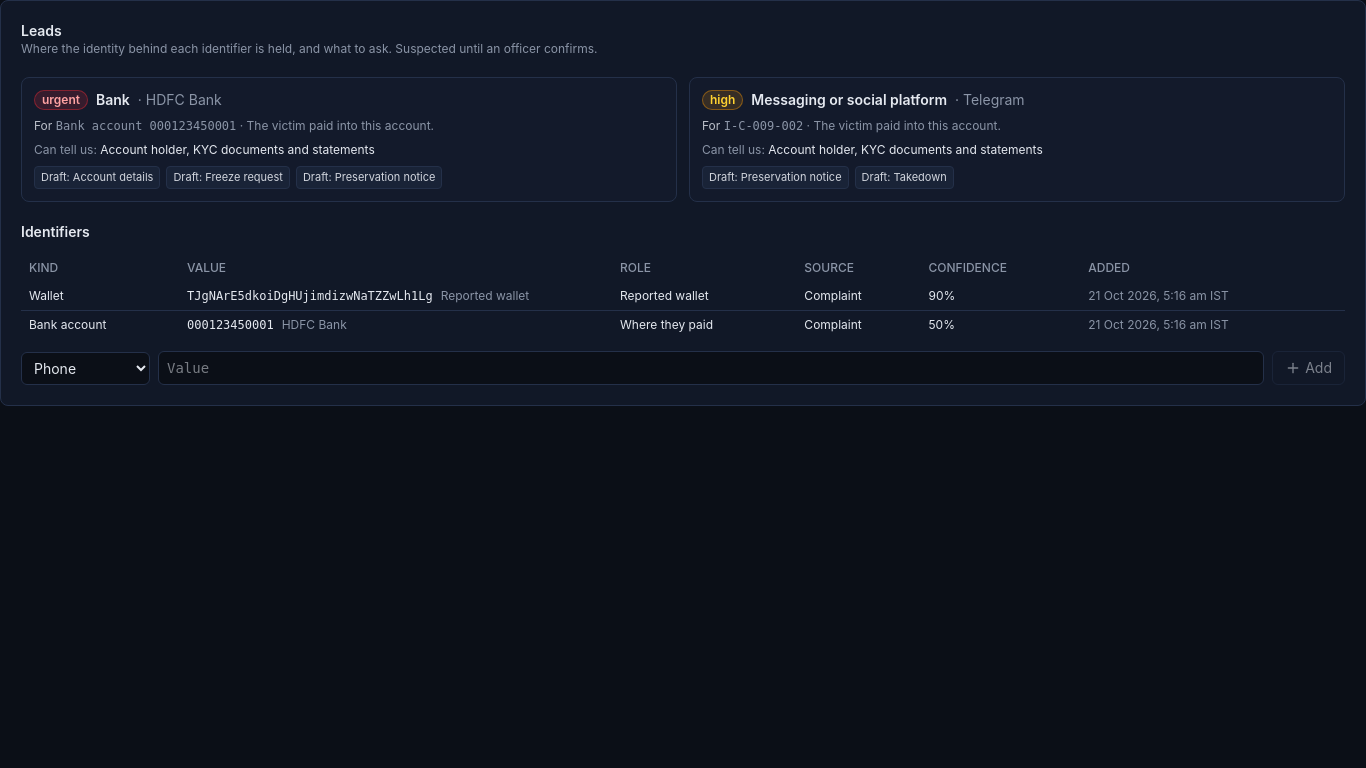
Test: the leads panel › adds an identifier by hand and refreshes the leads
Expected: the button "Add" is disabled, [1272, 350, 1345, 384]
Select "Phone" in the dropdown named "Kind" at (86, 368), box [21, 352, 150, 384]
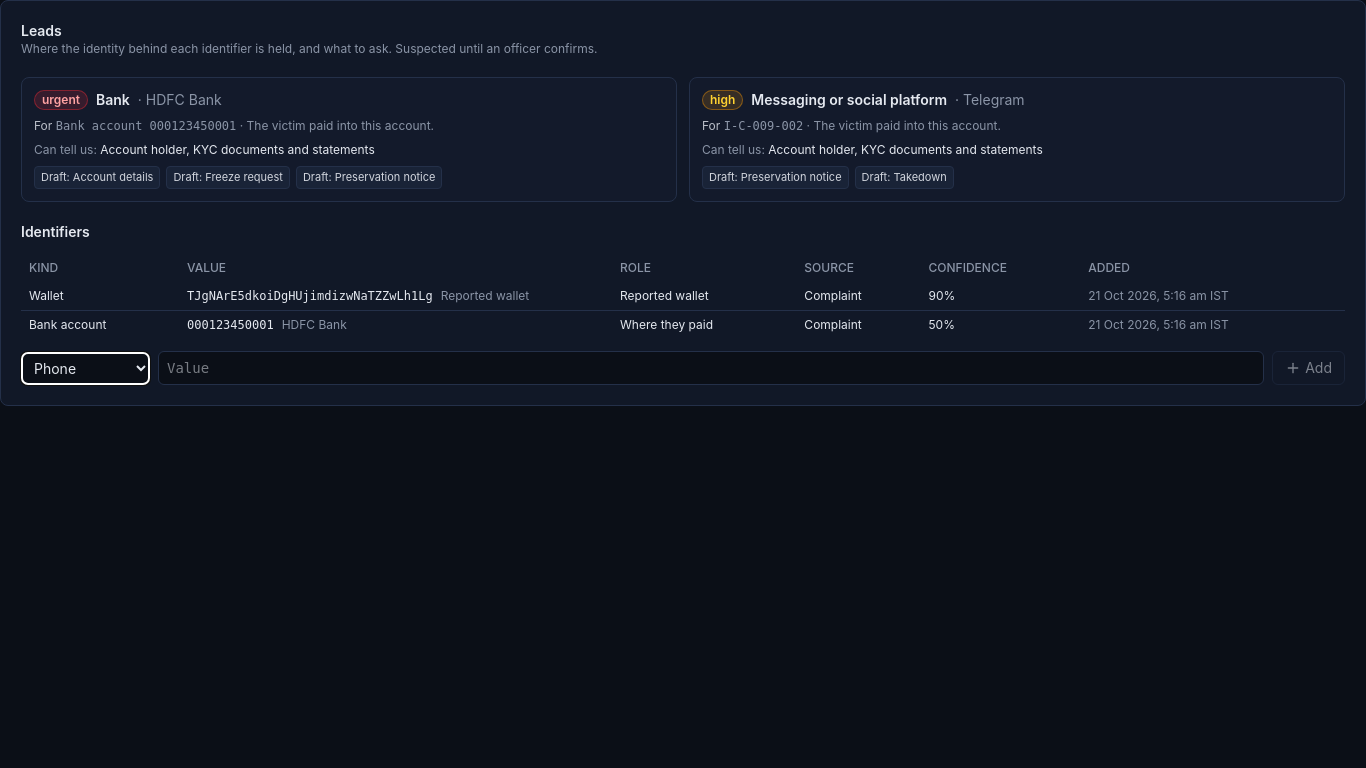
Type "+91 98000 12345" into the field labelled "Value" at (711, 368), box [158, 350, 1264, 384]
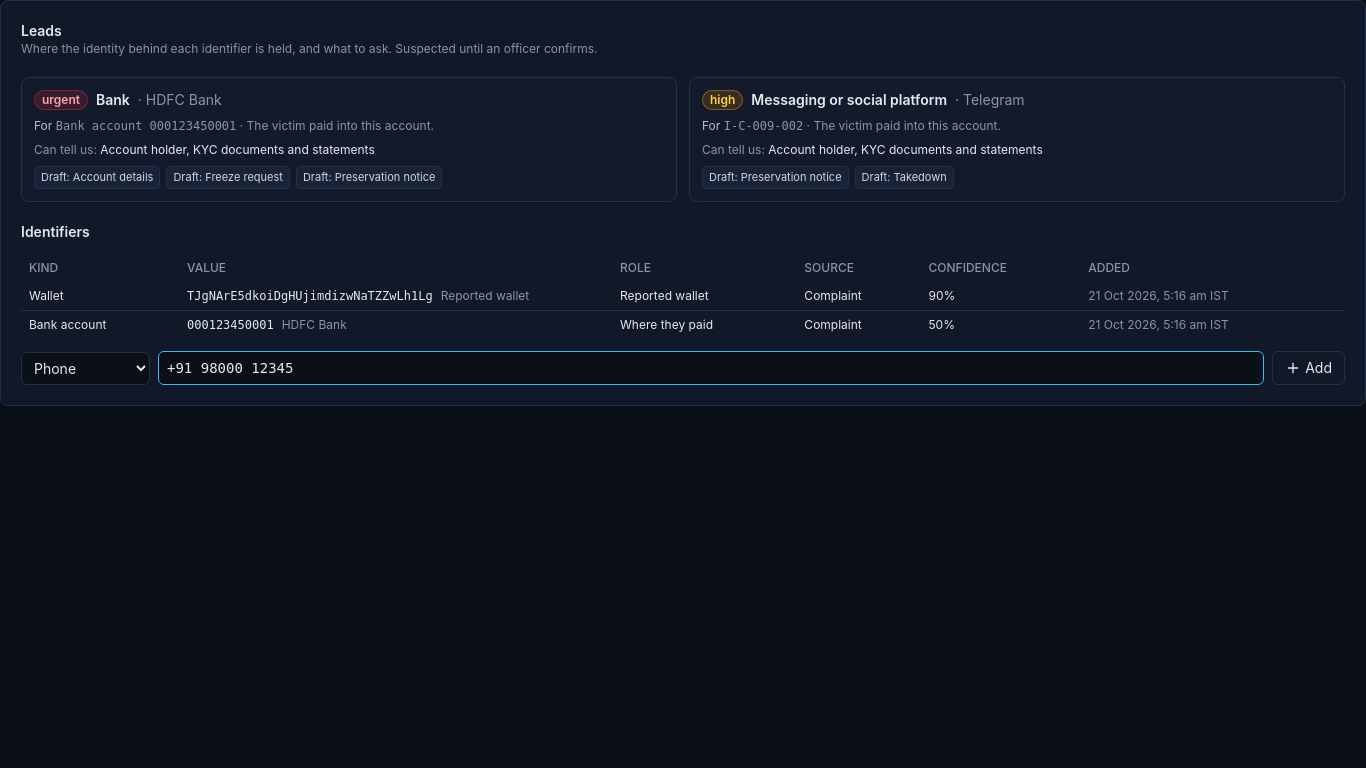
Click the button "Add" at (1309, 368), box [1272, 350, 1345, 384]
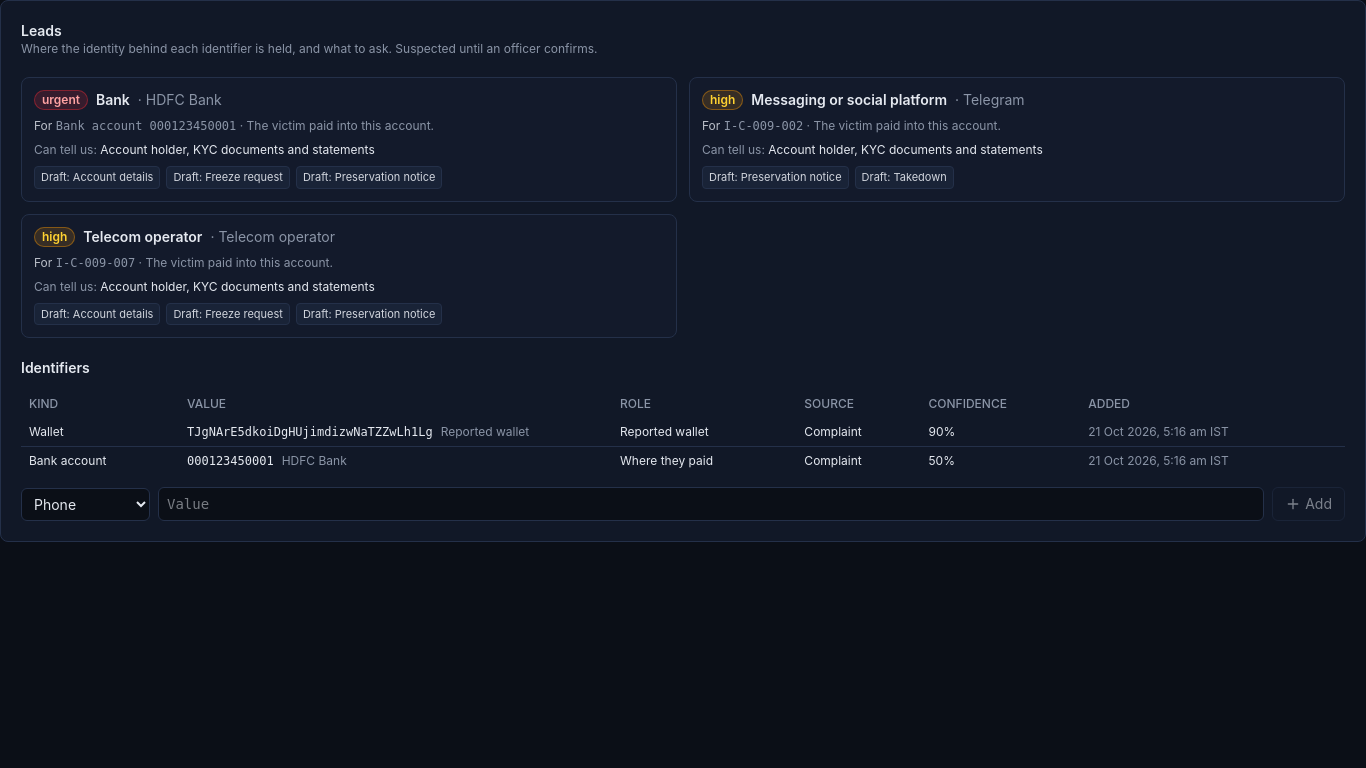
Now the number of list items with test id "lead" is 3, box [21, 77, 677, 202]; [689, 77, 1345, 202]; [21, 214, 677, 338]
Now the field labelled "Value" is empty, box [158, 487, 1264, 521]
